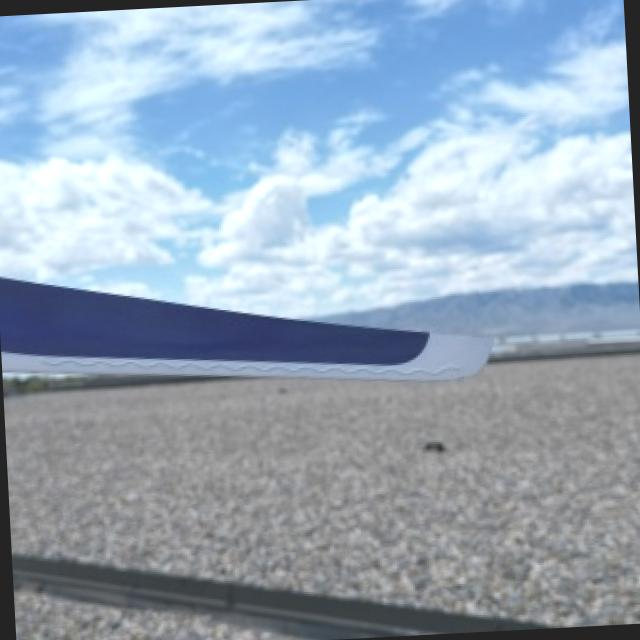healthy: (0, 277, 486, 379)
